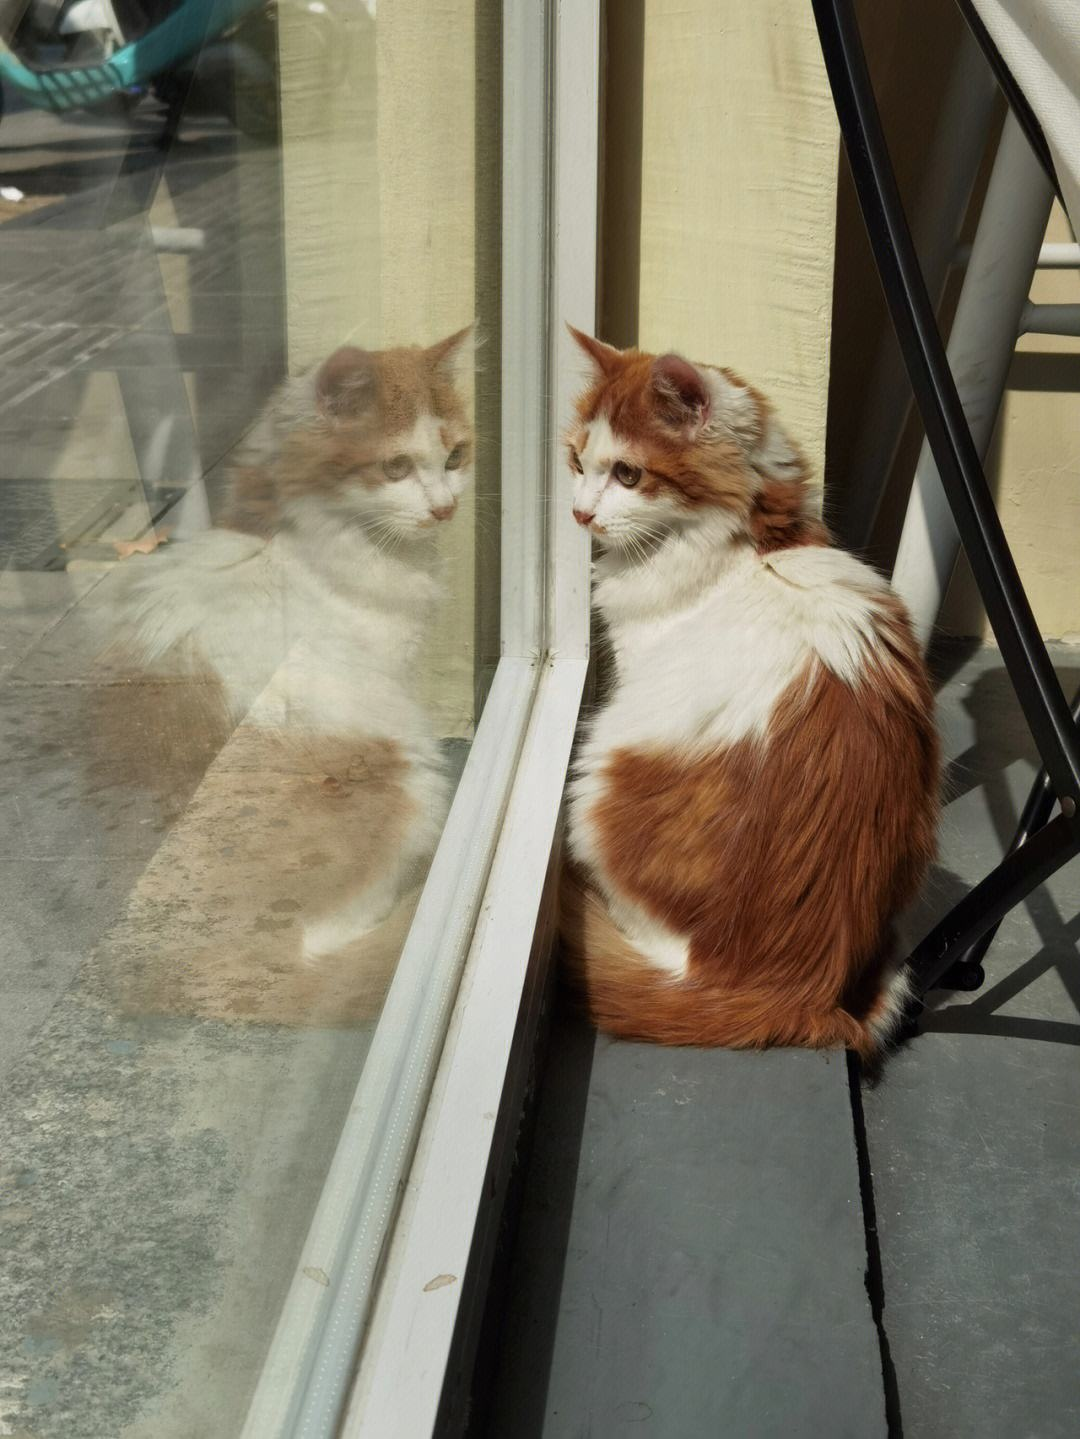cat: (562, 319, 952, 1056)
